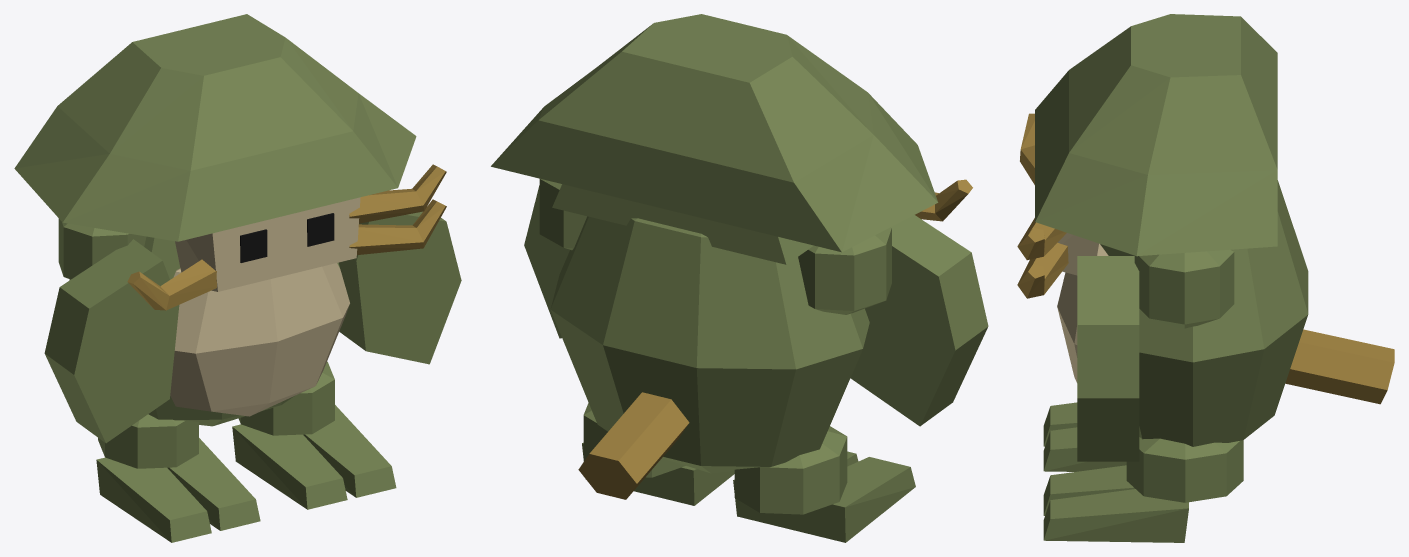
File: sprigbell.glb
The picture shows the model from 3 angles, left to right: view 1: azimuth 30°, elevation 25°; view 2: azimuth 150°, elevation 25°; view 3: azimuth 270°, elevation 25°; orthographic projection. The views are drawn at different scales.
Parts seen in each view (by area): view 1: Sprigbell; view 2: Sprigbell; view 3: Sprigbell.
Part boxes in pixels (<box>): Sprigbell: <box>14,14,461,542</box>; Sprigbell: <box>491,14,988,542</box>; Sprigbell: <box>1017,14,1394,542</box>.
Bounding box in the file's own units: 0.62 × 0.64 × 0.5.
